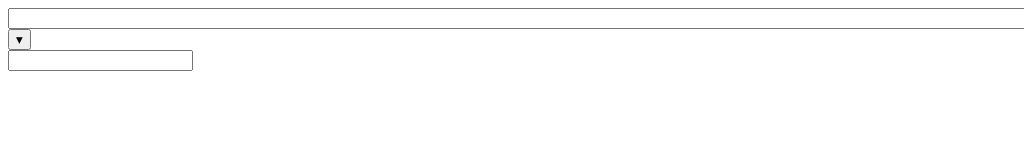
Test: a field somebody can type into or pick from › LEAD-31: narrows the list to what has been typed
The width and height of the screenshot is (1036, 160).
In the dropdown: {"x": 516, "y": 18} [8, 8, 1024, 29], type "cart"
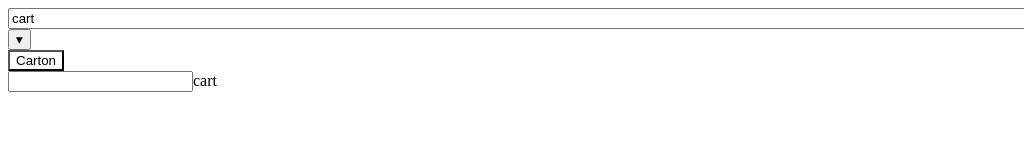
Result: the option "Carton" is shown at [8, 50, 64, 71]
